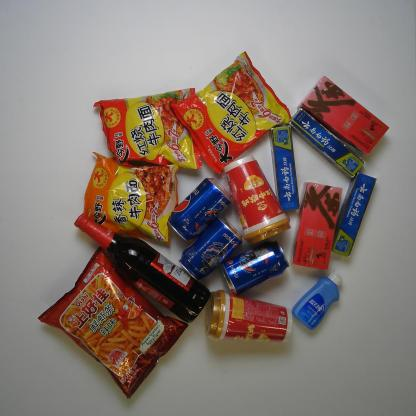Alcohol: (73, 212, 211, 323)
Drink: (167, 177, 233, 242), (178, 216, 243, 281), (221, 240, 290, 296)
Instant Drink: (296, 75, 390, 157), (222, 154, 292, 247), (290, 181, 343, 272), (204, 289, 293, 343)
Instant Noodles: (170, 50, 293, 174), (83, 151, 179, 247), (92, 88, 203, 170)
Personal Hygiene: (288, 107, 366, 180), (331, 172, 377, 258), (292, 267, 342, 330), (268, 125, 300, 211)
Puffed Food: (37, 245, 189, 400)
